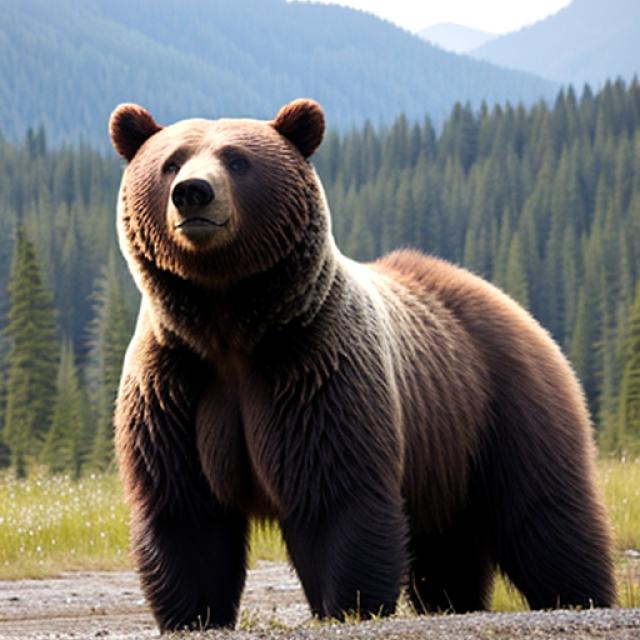bear: (107, 86, 370, 332)
